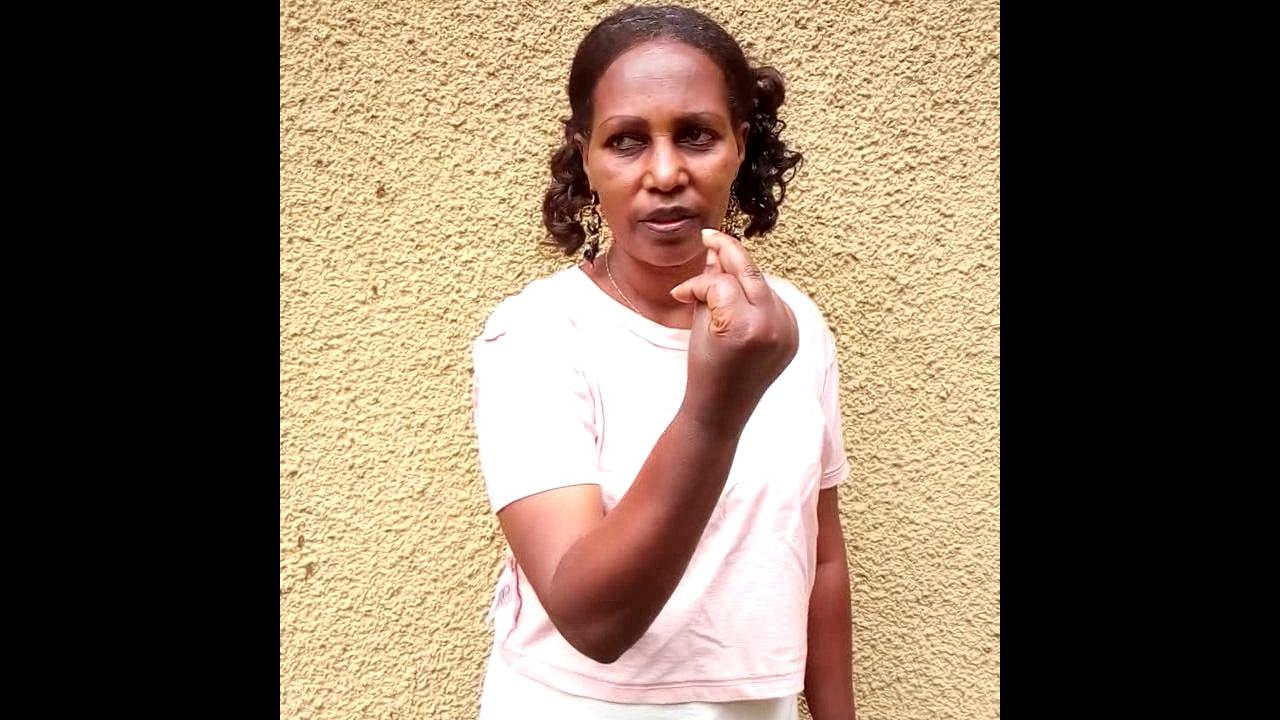CHE: (673, 227, 799, 473)
